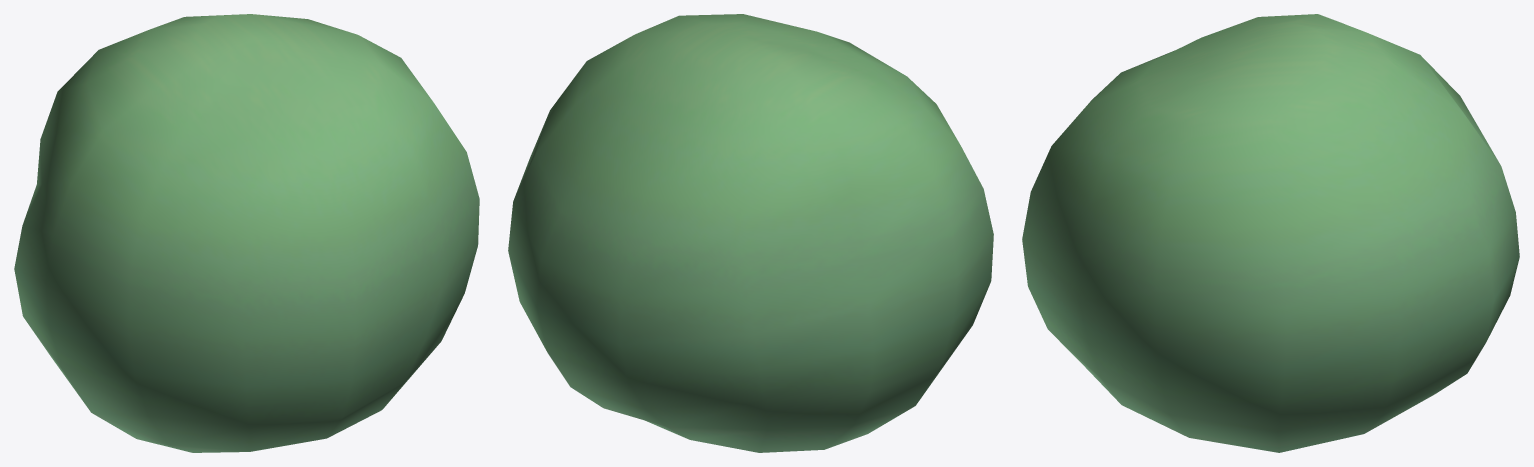
Rendered from FX_greenBunch.fbx.
3 views of the same model, side by side, from view 1: azimuth 30°, elevation 25°; view 2: azimuth 150°, elevation 25°; view 3: azimuth 270°, elevation 25° (orthographic).
Parts seen in each view (by area): view 1: greenBunchFX; view 2: greenBunchFX; view 3: greenBunchFX.
Boxes of the visible parts, x1,y1,x2,y2 form: greenBunchFX: [14, 14, 479, 452]; greenBunchFX: [508, 14, 993, 452]; greenBunchFX: [1022, 14, 1519, 452].
Size of the model in its own units: 2.34 by 2.01 by 2.41.
Materials: 1 (1 with a texture image).
